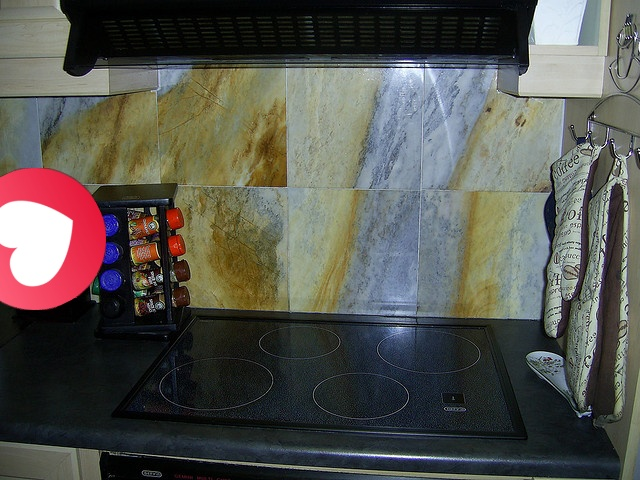love: (0, 168, 106, 310)
